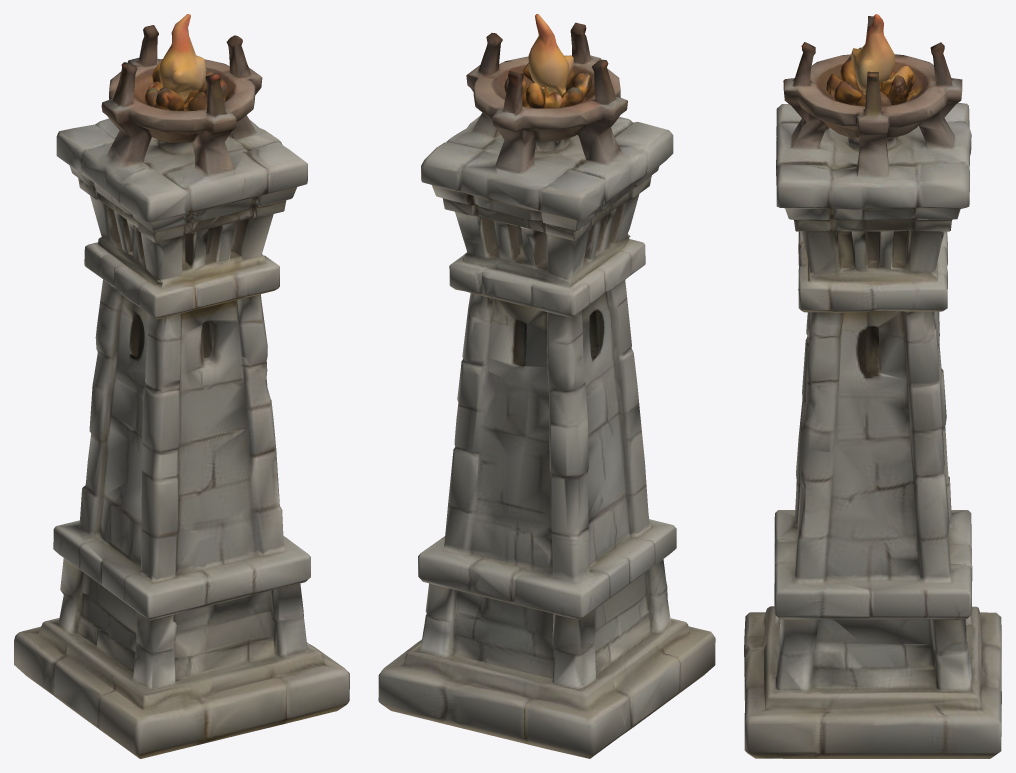
Rendered from beacon.glb.
3 renders of one model, left to right at view 1: azimuth 30°, elevation 25°; view 2: azimuth 150°, elevation 25°; view 3: azimuth 270°, elevation 25°, orthographic. The views are drawn at different scales.
Visible parts, largest first — view 1: tripo_node_260f4814-1a1a-45d0-9c06-f3e6d6bf1aff; view 2: tripo_node_260f4814-1a1a-45d0-9c06-f3e6d6bf1aff; view 3: tripo_node_260f4814-1a1a-45d0-9c06-f3e6d6bf1aff.
Part boxes in pixels (bbox=[...]): tripo_node_260f4814-1a1a-45d0-9c06-f3e6d6bf1aff: bbox=[14, 14, 349, 758]; tripo_node_260f4814-1a1a-45d0-9c06-f3e6d6bf1aff: bbox=[378, 14, 715, 758]; tripo_node_260f4814-1a1a-45d0-9c06-f3e6d6bf1aff: bbox=[744, 14, 1001, 758].
Size of the model in its own units: 1.64 by 5 by 1.64.
Materials: 1 (1 with a texture image).
